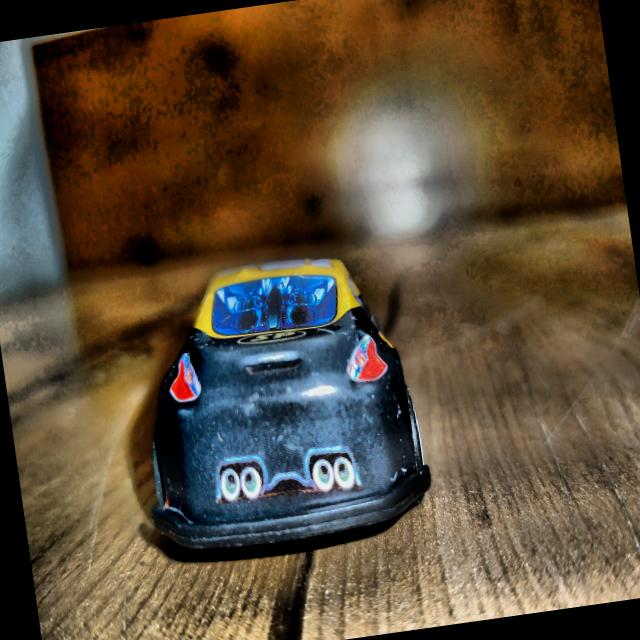Car: (120, 245, 436, 559)
